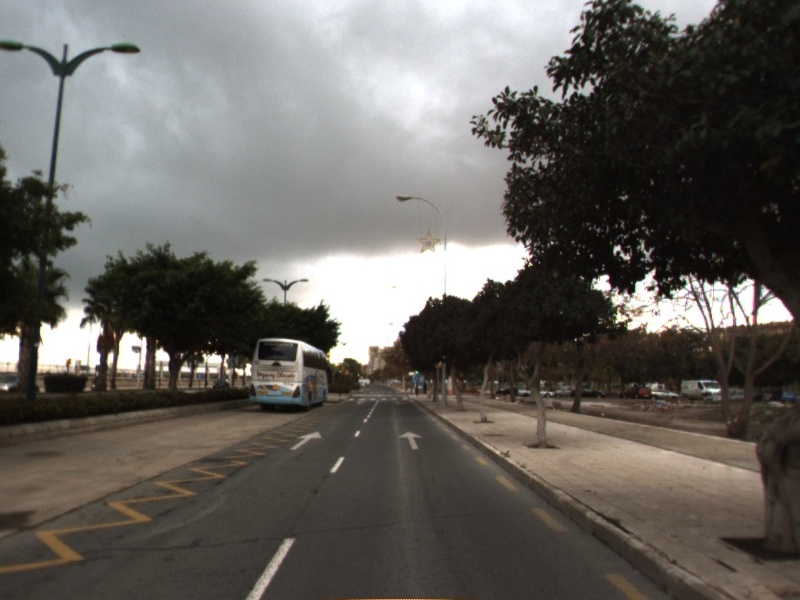STRAIGHT: (288, 429, 323, 452), (396, 429, 426, 452)
